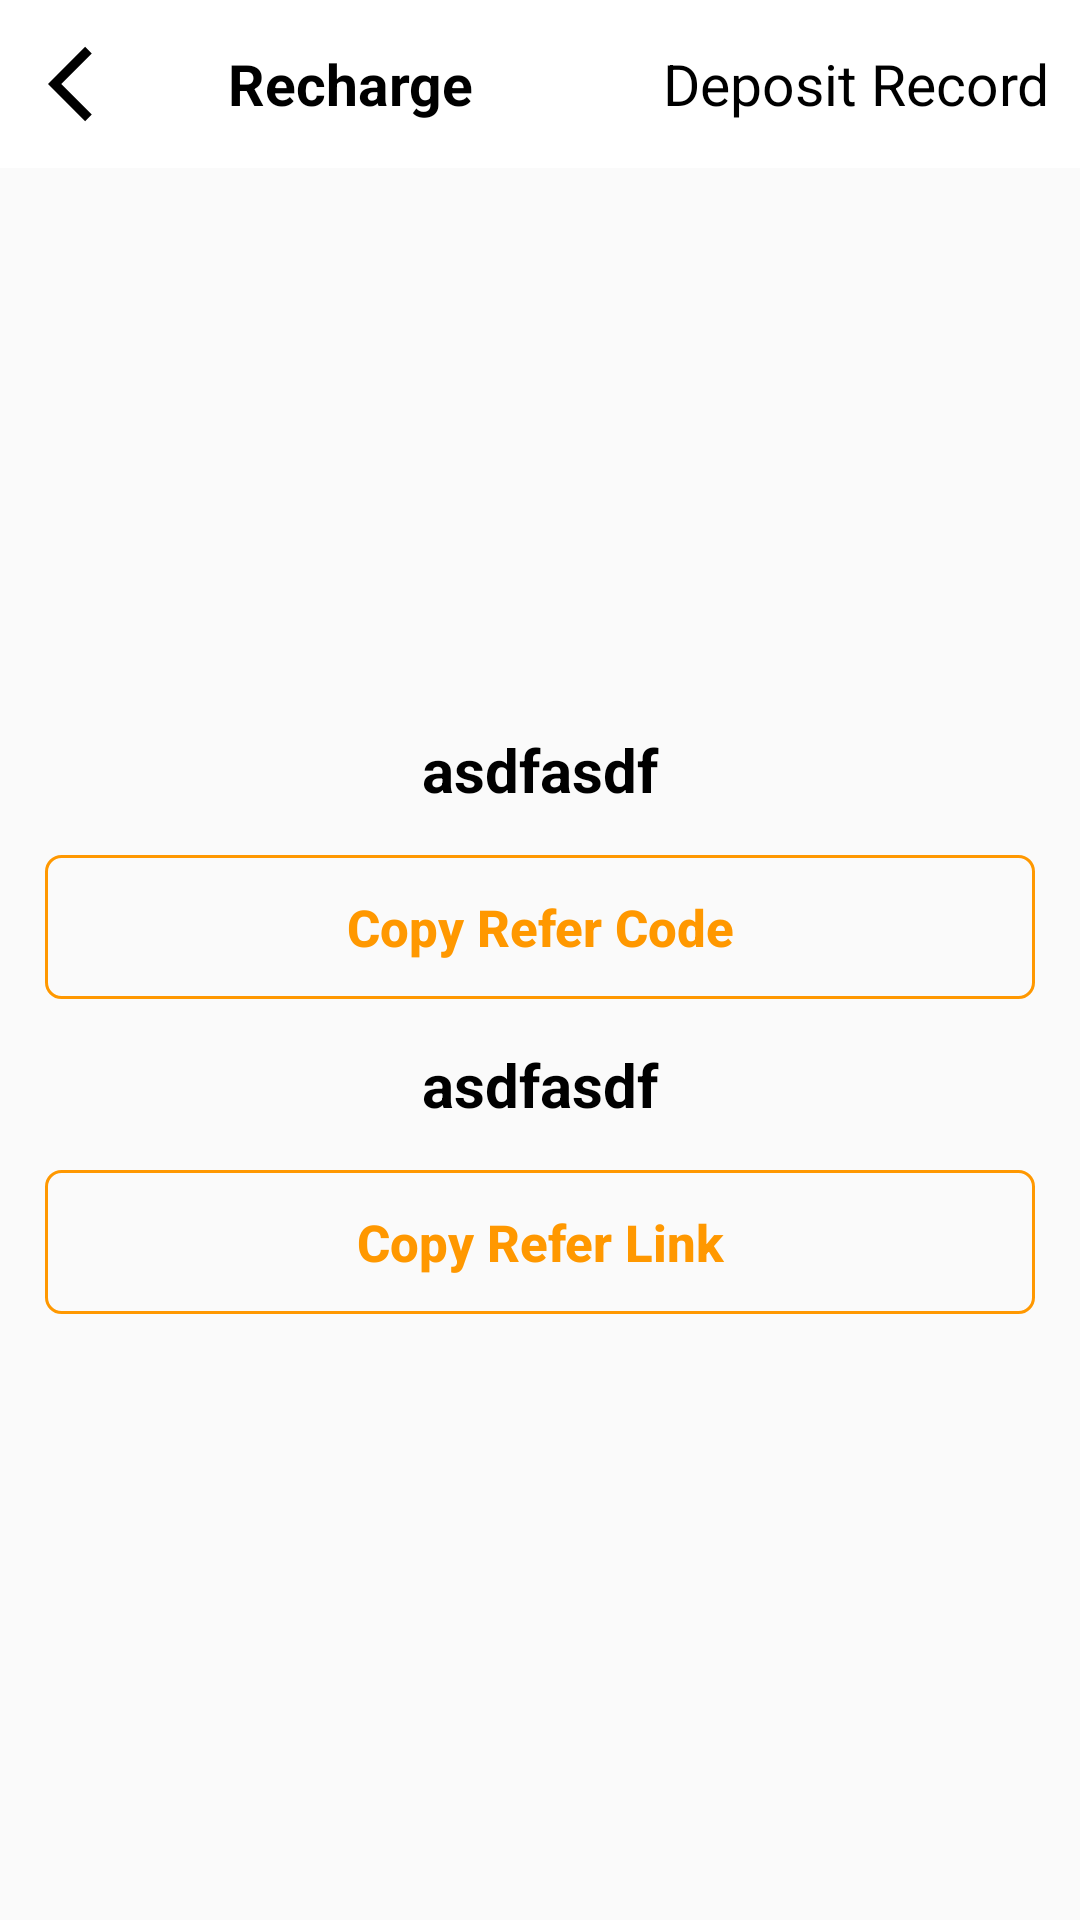

Where icons sit on this 1080 x 1920 app screen, as (x1, y1, x2, y2):
back: (48, 47, 92, 121)
